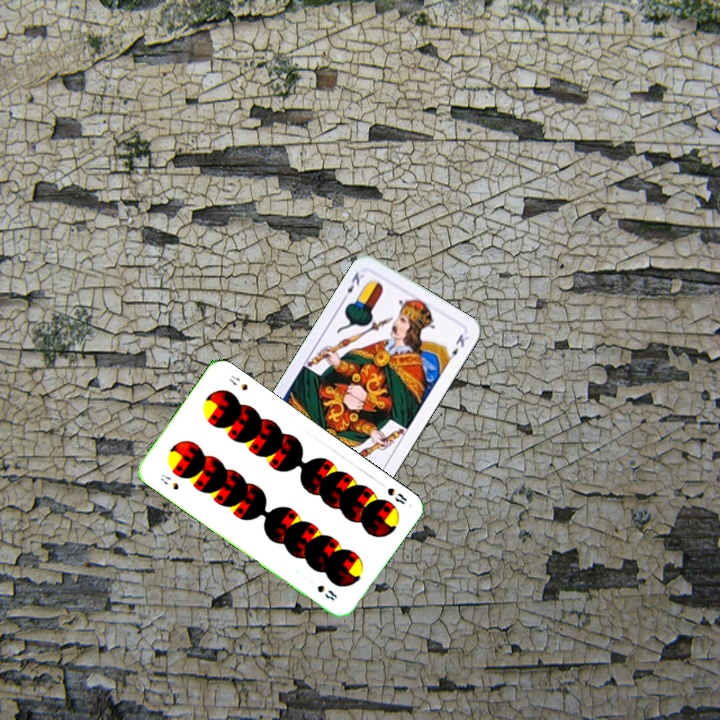EK: (339, 268, 367, 303)
S8: (375, 478, 409, 507), (156, 470, 181, 493)
